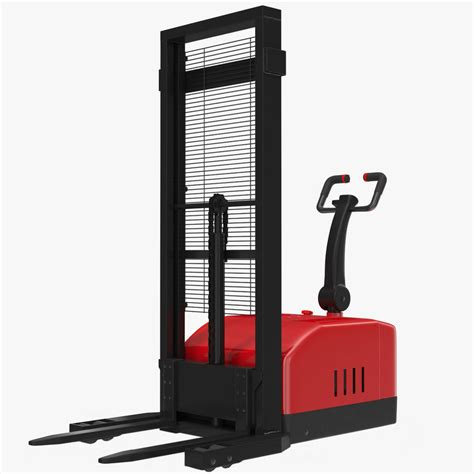Pallet Jack: (27, 8, 399, 468)
